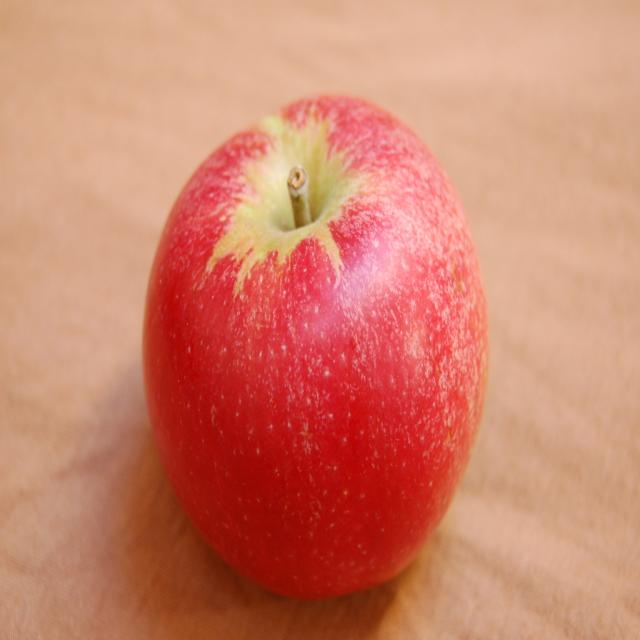Healty Apple: (140, 87, 490, 600)
